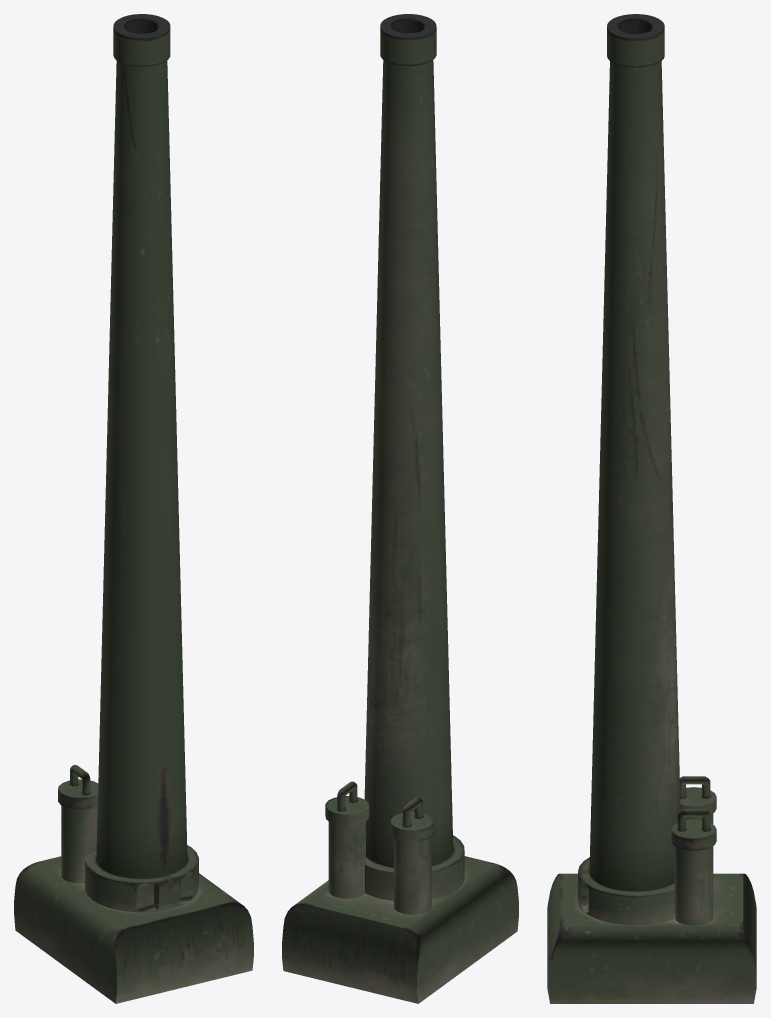
File: Gun_02.glb
3 views of the same model, side by side, from view 1: azimuth 30°, elevation 25°; view 2: azimuth 150°, elevation 25°; view 3: azimuth 270°, elevation 25° (orthographic). The views are drawn at different scales.
Parts seen in each view (by area): view 1: set_0_group_0; view 2: set_0_group_0; view 3: set_0_group_0.
Boxes of the visible parts, x1,y1,x2,y2 form: set_0_group_0: [14, 14, 253, 1003]; set_0_group_0: [282, 14, 518, 1003]; set_0_group_0: [547, 14, 756, 1003].
Size of the model in its own units: 0.4959 by 3.22 by 0.6474.
1 material, 1 textured.
